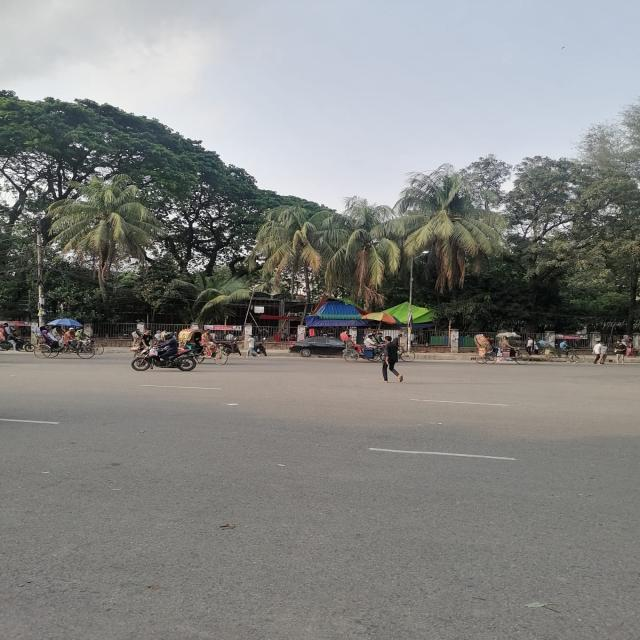person: (382, 336, 403, 382)
